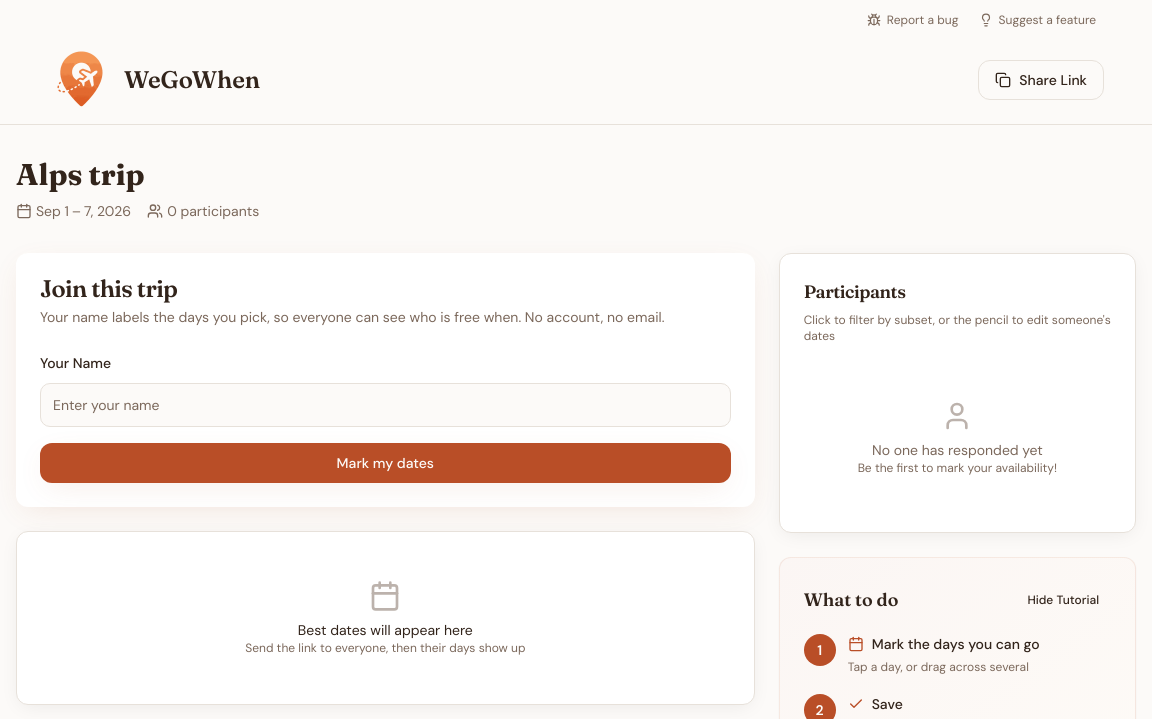
Test: TripPage › start your own trip › is offered to a guest once their dates are saved, and marks where they came from
Expected: the heading "Alps trip" is shown, [16, 156, 145, 193]
Type "Ada" into the field labelled "Your Name" at (385, 405), box [40, 383, 731, 427]
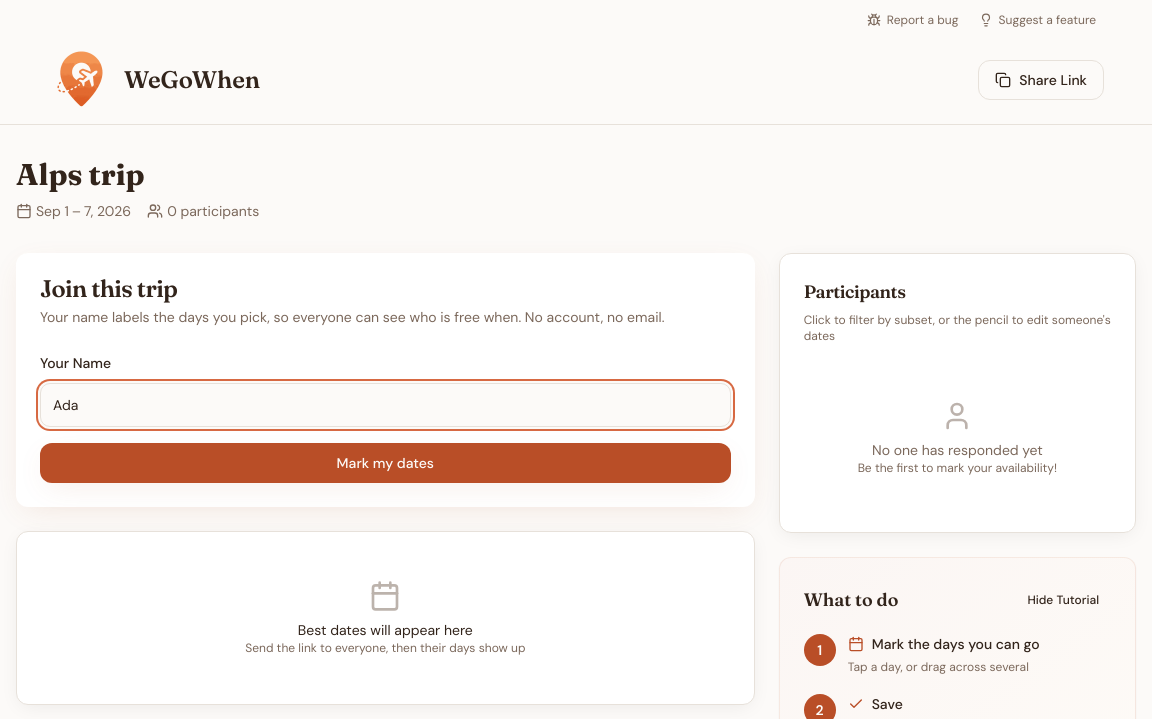
Click the button "Mark my dates" at (385, 463), box [40, 443, 731, 483]
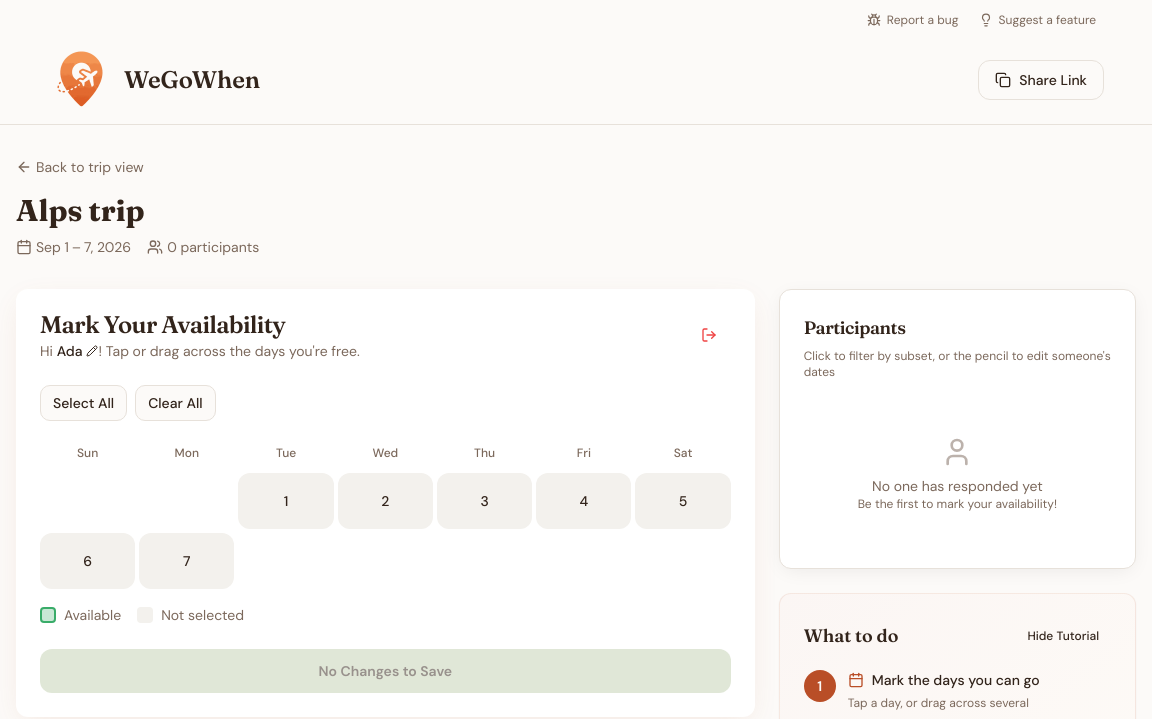
Expected: the text "Planning something else" is not shown
Click the button "3" at (484, 501), box [437, 473, 532, 529]
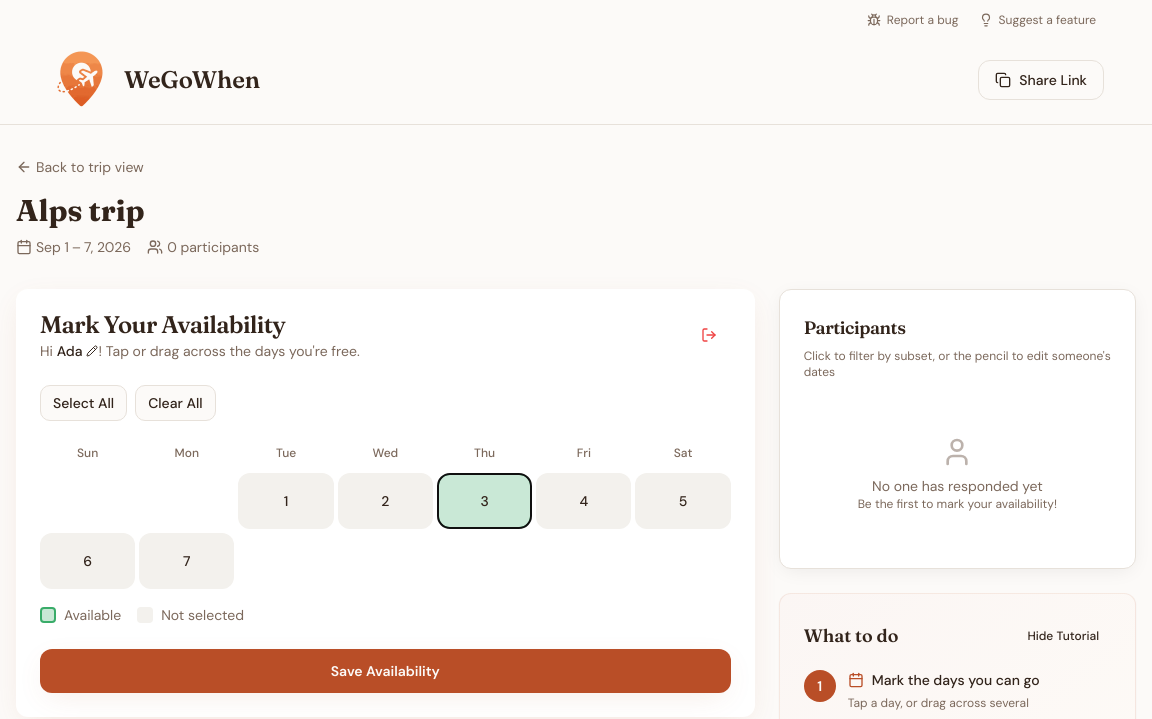
Click the button "Save Availability" at (385, 671), box [40, 649, 731, 693]
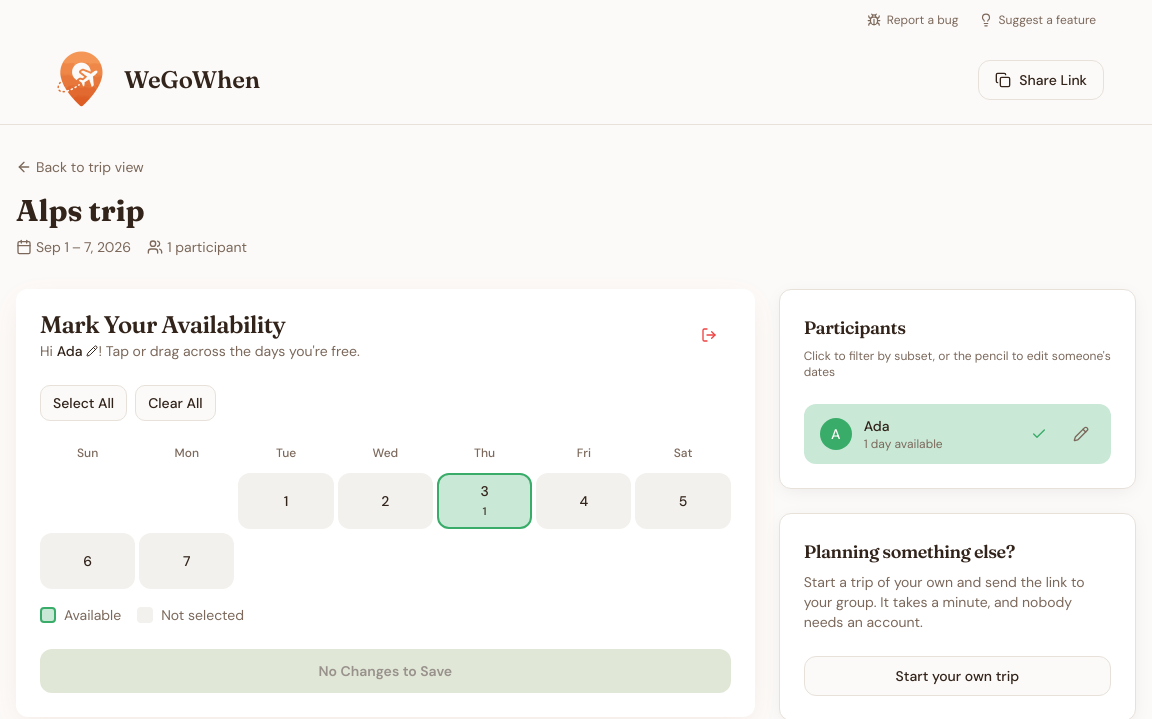
Now the text "Planning something else?" is shown, box [804, 540, 1015, 563]
